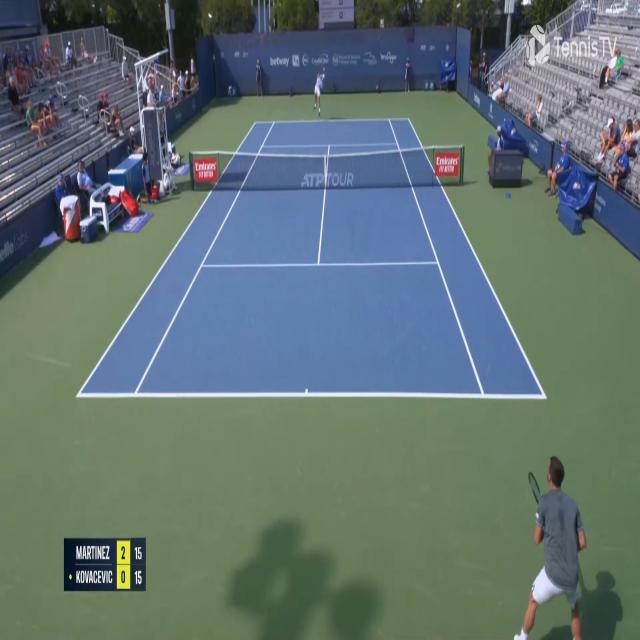tennis-player: (512, 450, 592, 640), (313, 68, 326, 116)
